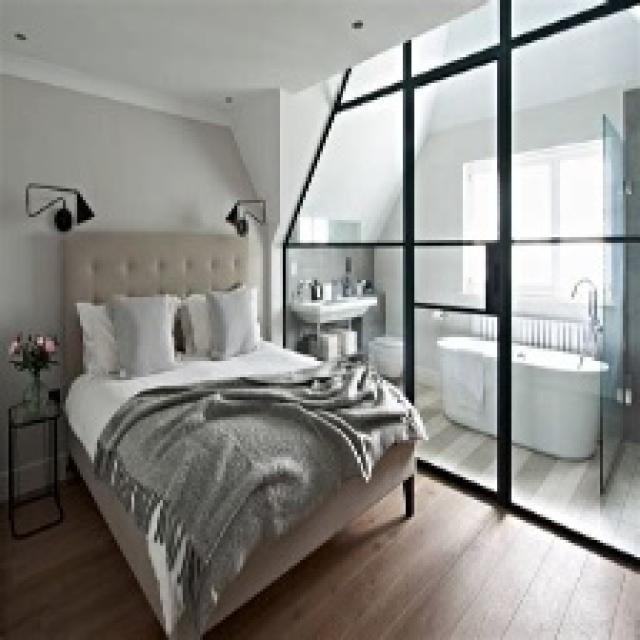Bed: (60, 232, 420, 637)
